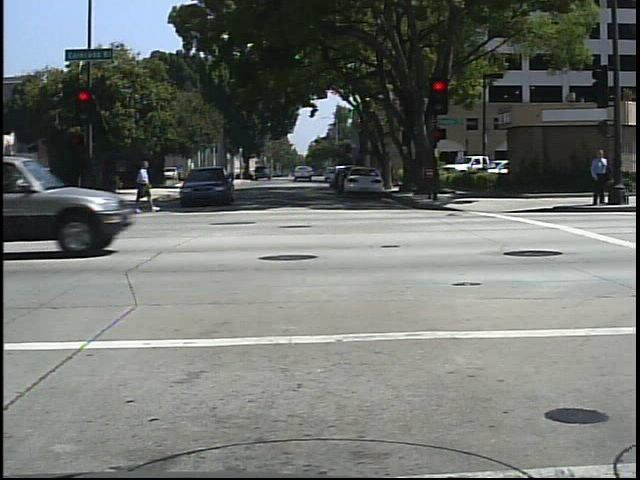person: (128, 155, 159, 219), (588, 143, 611, 209)
